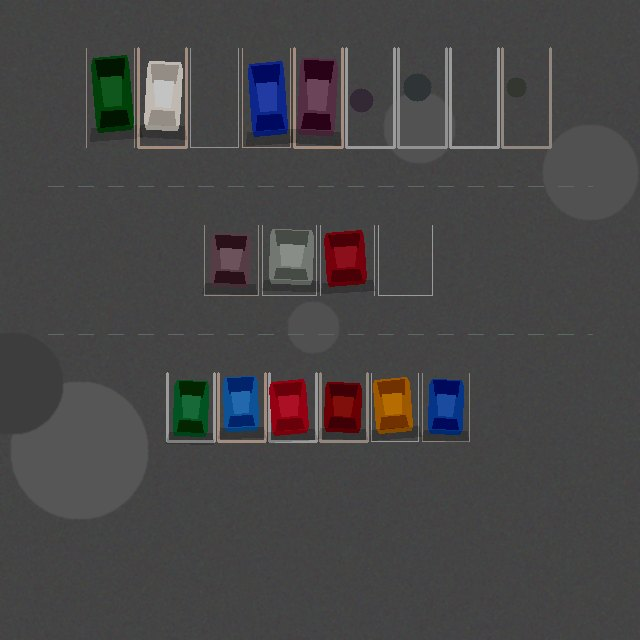space-empty: (190, 48, 238, 147), (346, 48, 394, 147), (398, 48, 446, 147), (450, 48, 498, 147), (502, 48, 550, 147), (378, 225, 432, 295)
space-occupied: (86, 48, 134, 147), (138, 48, 186, 147), (242, 48, 290, 147), (294, 48, 342, 147), (204, 225, 258, 295), (262, 225, 316, 295), (320, 225, 374, 295), (167, 373, 214, 441), (218, 373, 265, 441), (269, 373, 316, 441), (320, 373, 367, 441), (371, 373, 418, 441), (422, 373, 469, 441)
